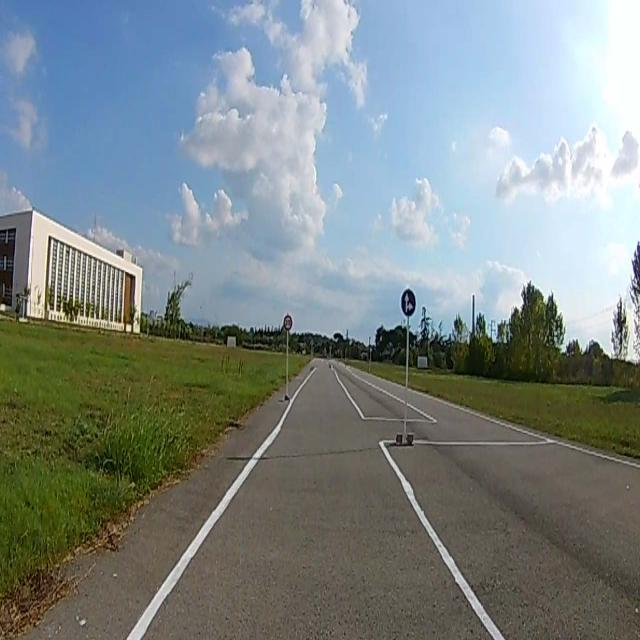ilerisag: (401, 289, 415, 316)
